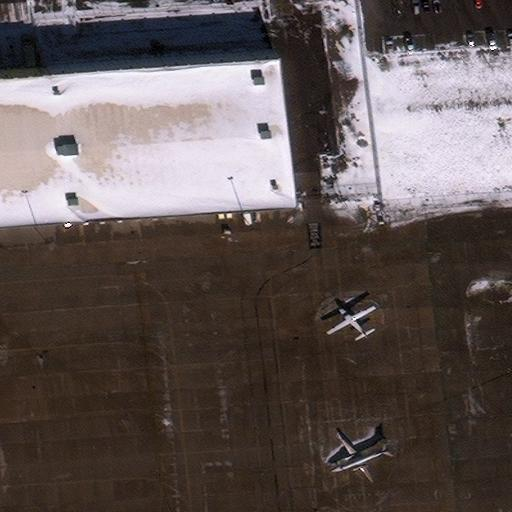Medium Civil Transport: (331, 434, 389, 486), (324, 306, 372, 339)
